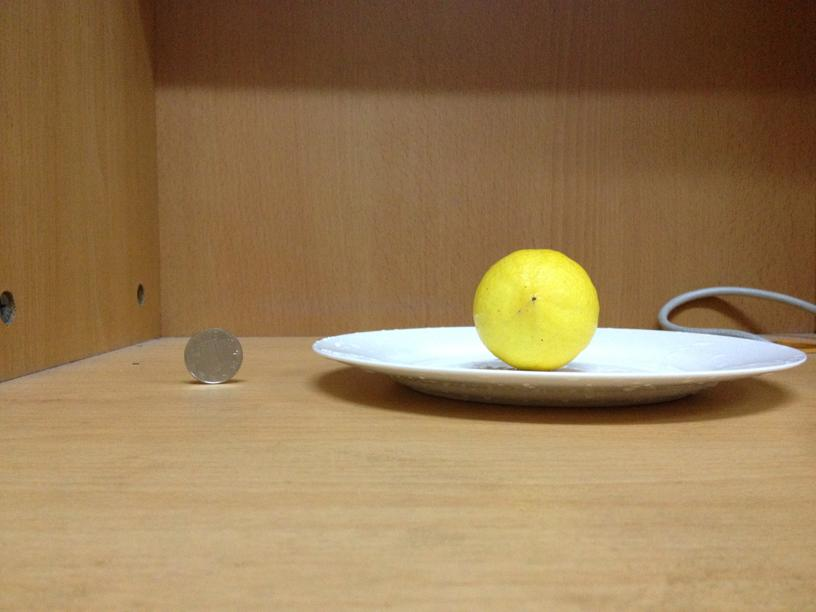coin: (183, 328, 244, 381)
lemon: (472, 247, 600, 371)
